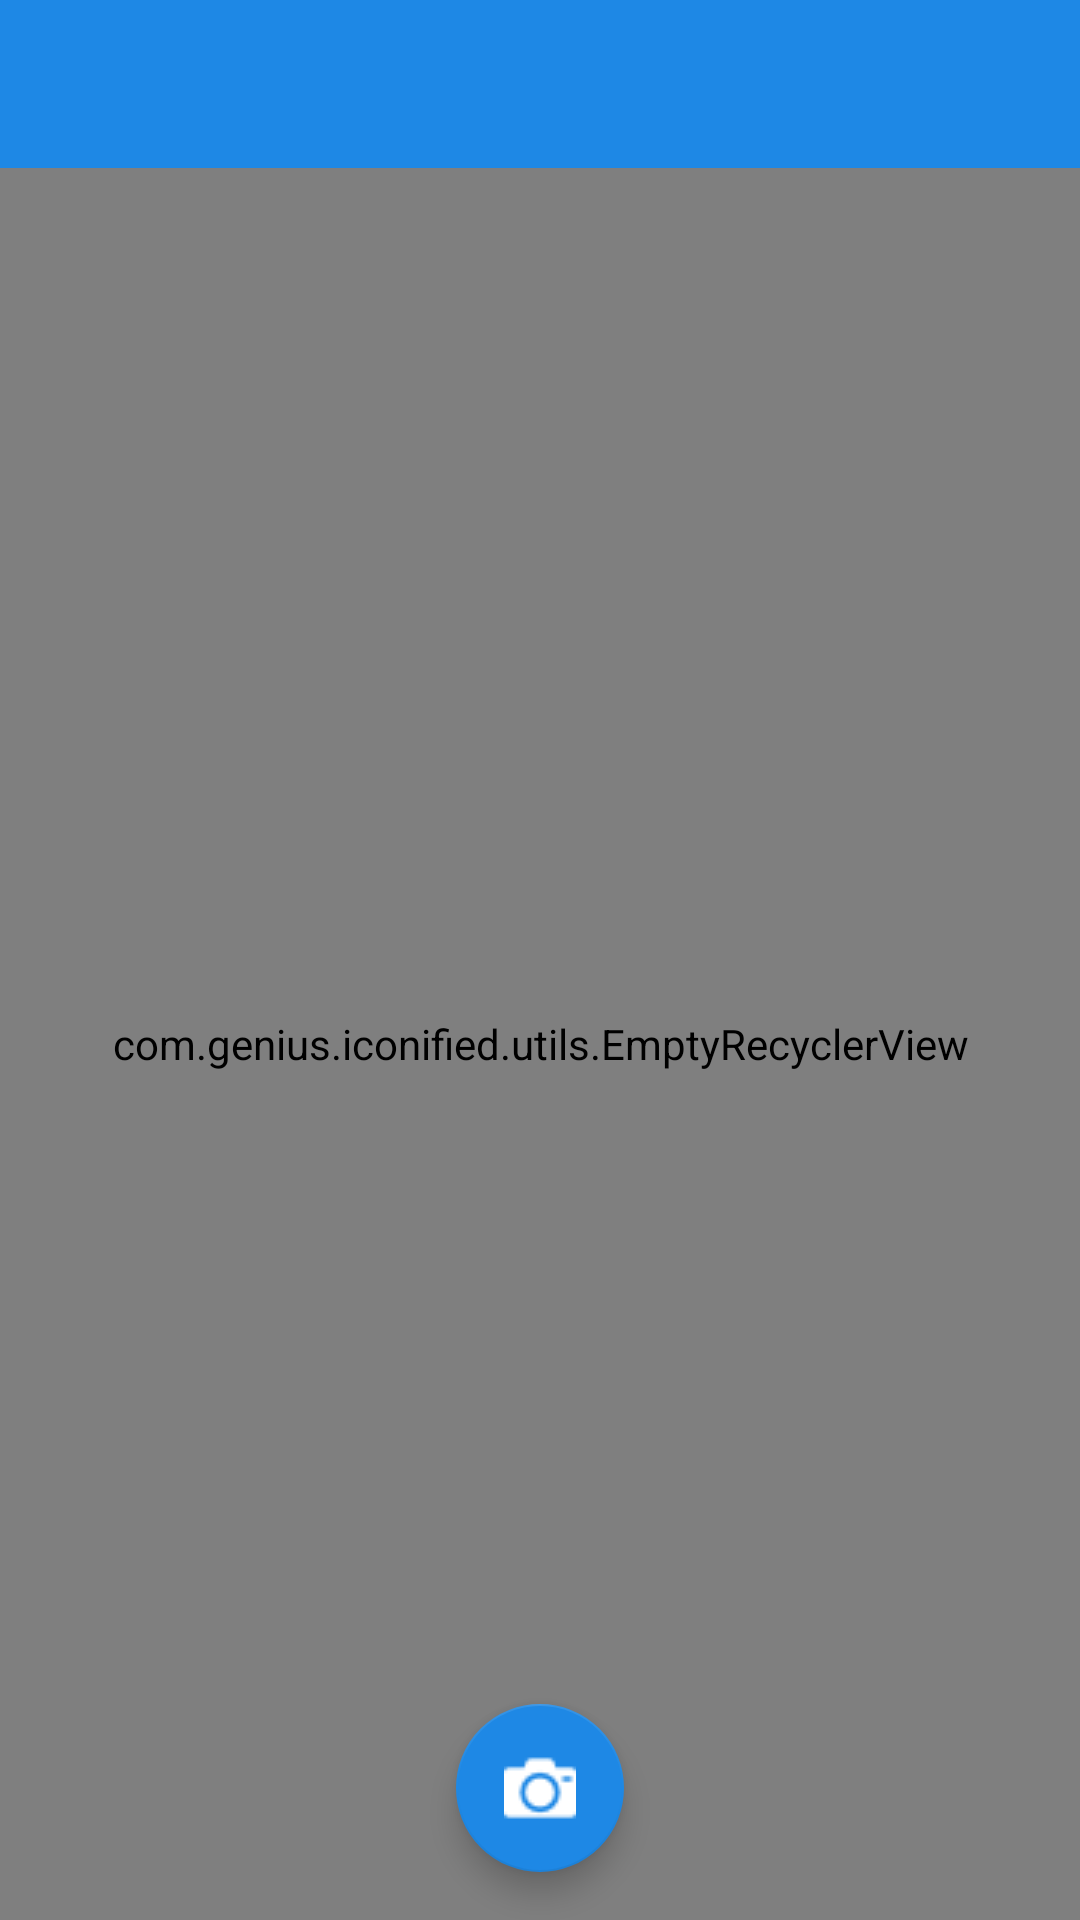

Named icons in this screenshot (1080x1920) and their bounding boxes, (x1,y1,x2,y2):
camera: (456,1704,624,1872)
